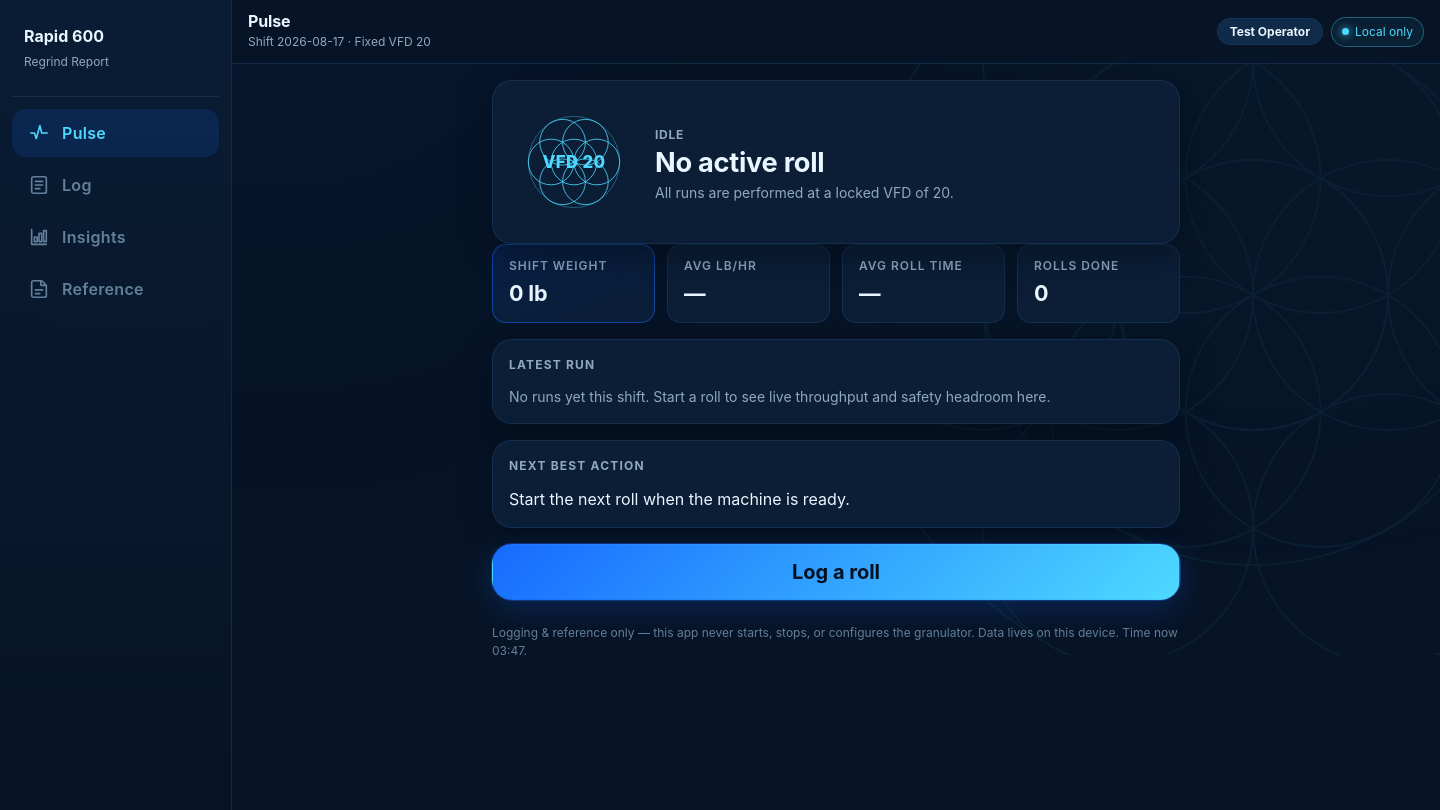
Test: App workflow › blocks invalid nonblank input weight when starting a roll
Click the button "Log": click(116, 185) [12, 161, 219, 209]
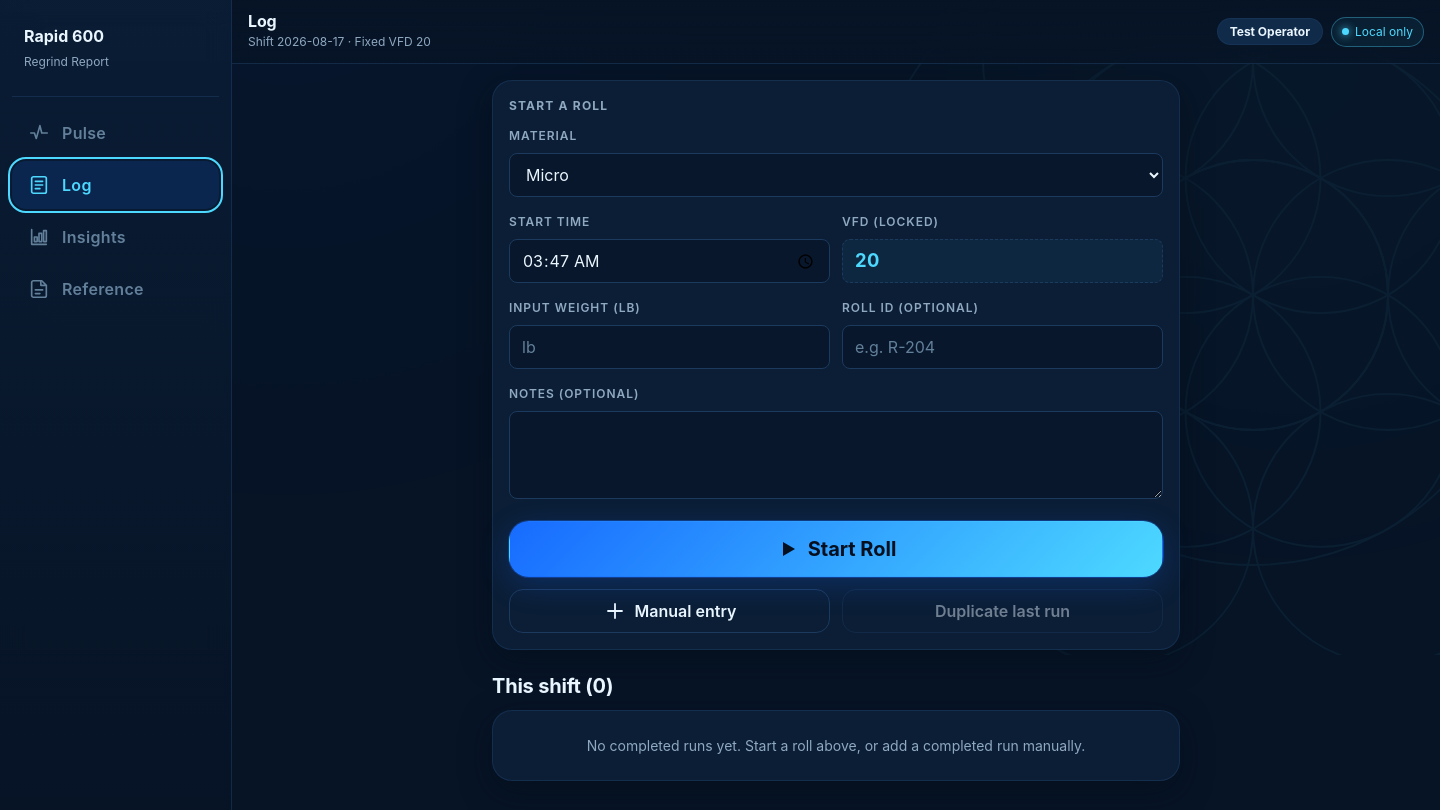
In the number field labelled "Input weight (lb)": (670, 347) [509, 325, 830, 369], type "-5"
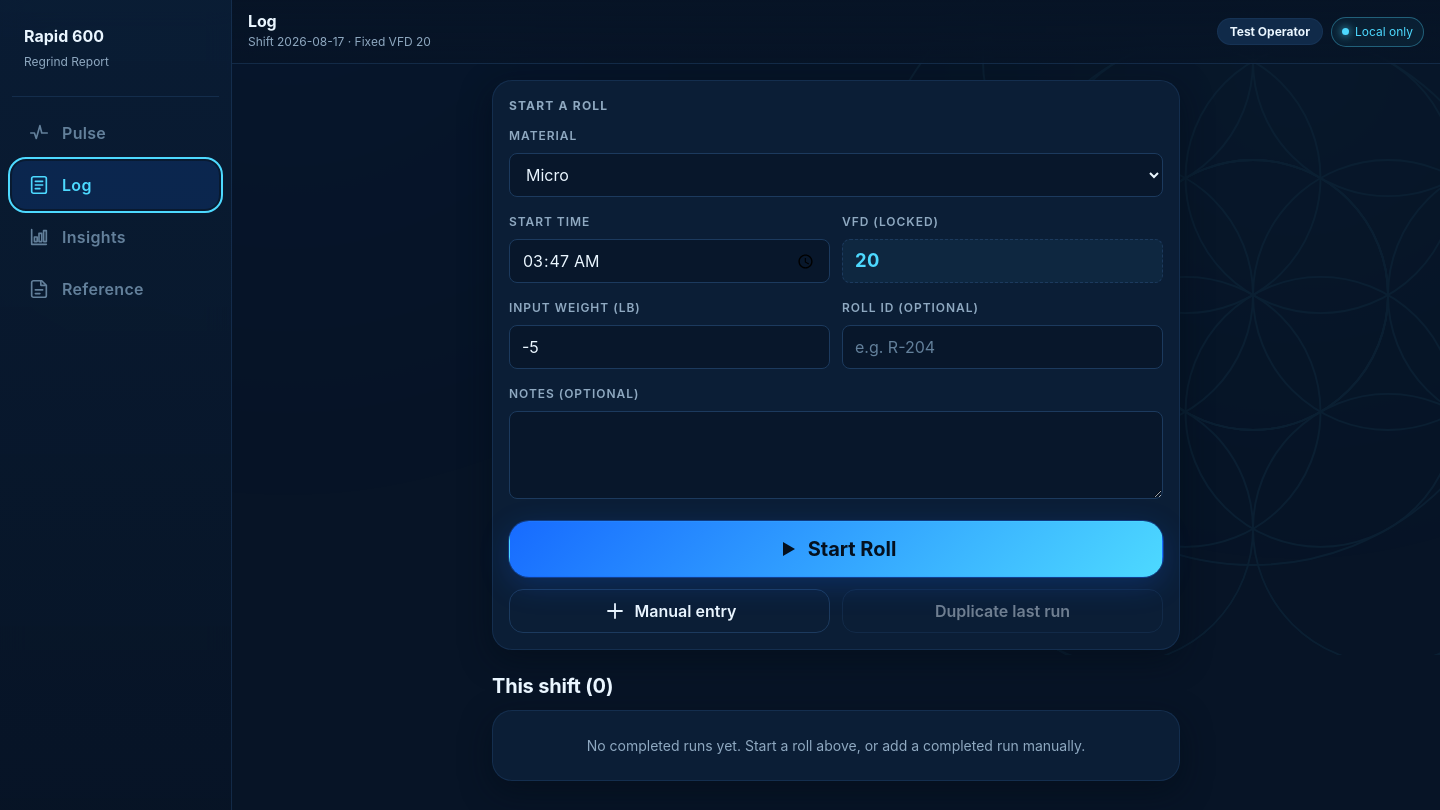
Click the button "Start Roll": click(836, 549) [509, 521, 1163, 577]
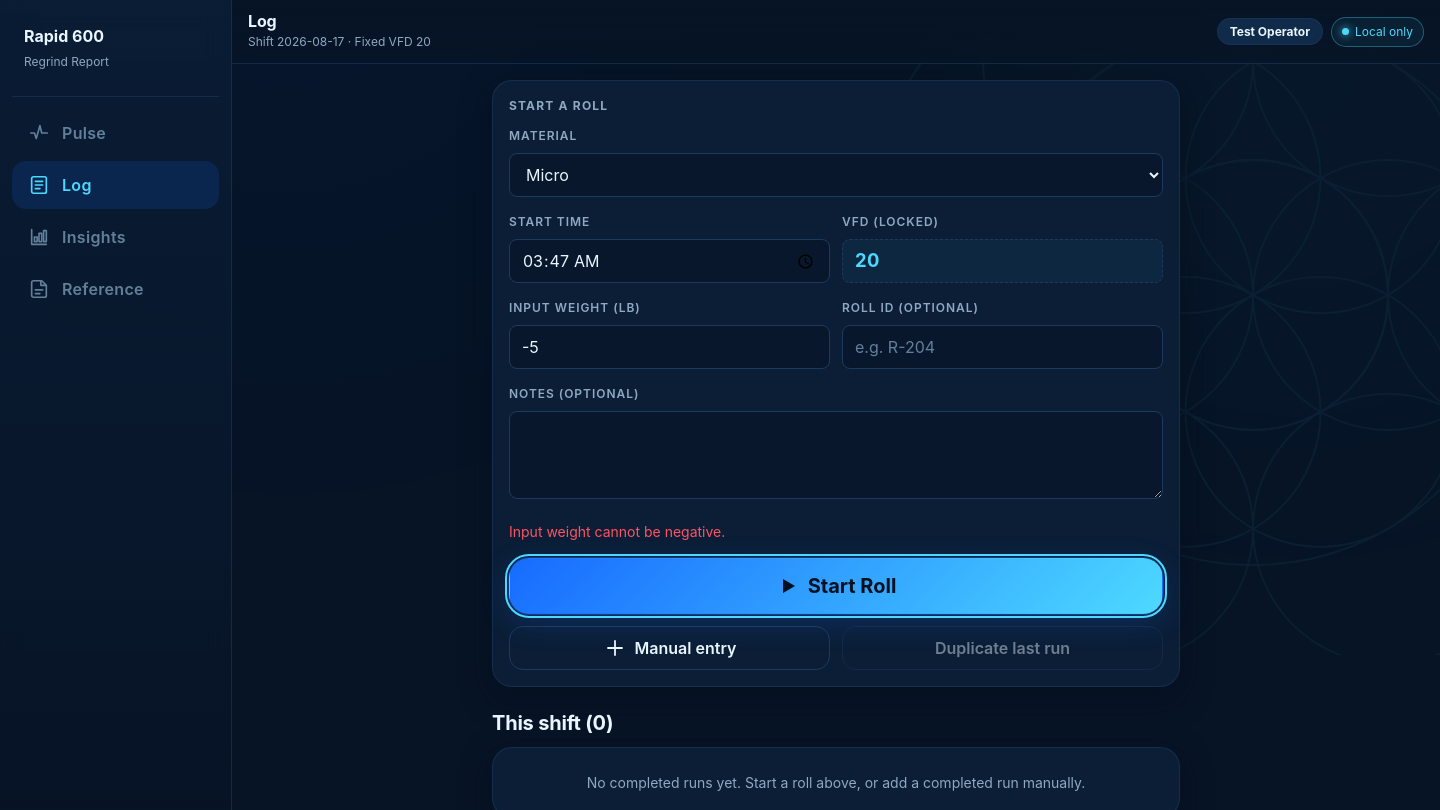
Expected: the message shows "cannot be negative", [509, 523, 725, 540]
